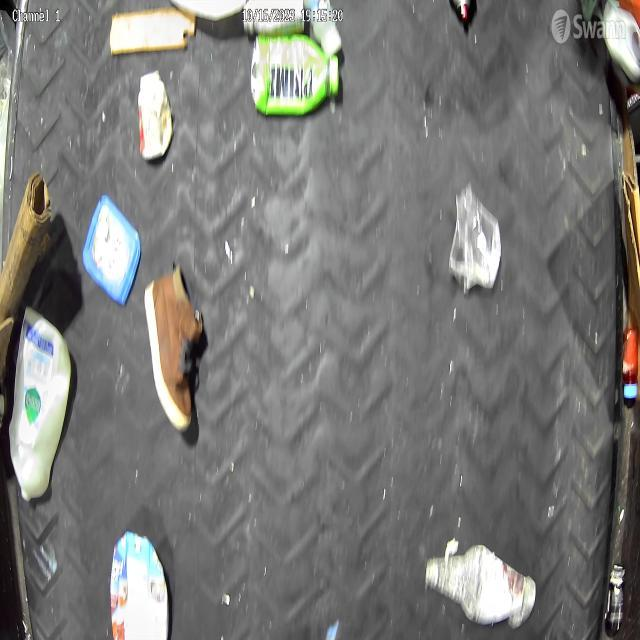milk_jug: (8, 302, 72, 504)
non_white_jug: (249, 34, 341, 118)
plastic_bottle: (422, 538, 537, 628)
